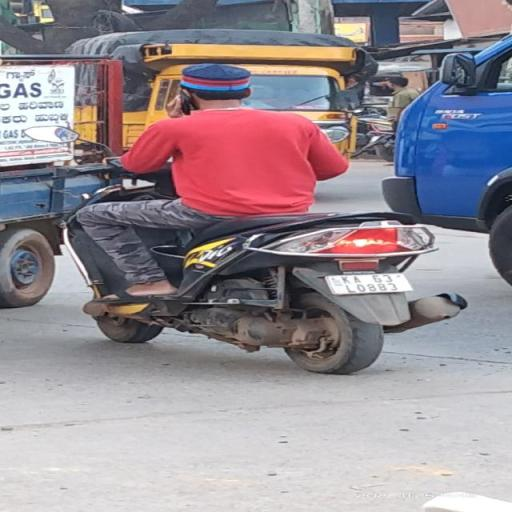bike: (13, 60, 472, 376)
numberplate: (326, 268, 416, 298)
using mobile: (167, 88, 195, 118)
withouthelmet: (183, 63, 251, 107)
